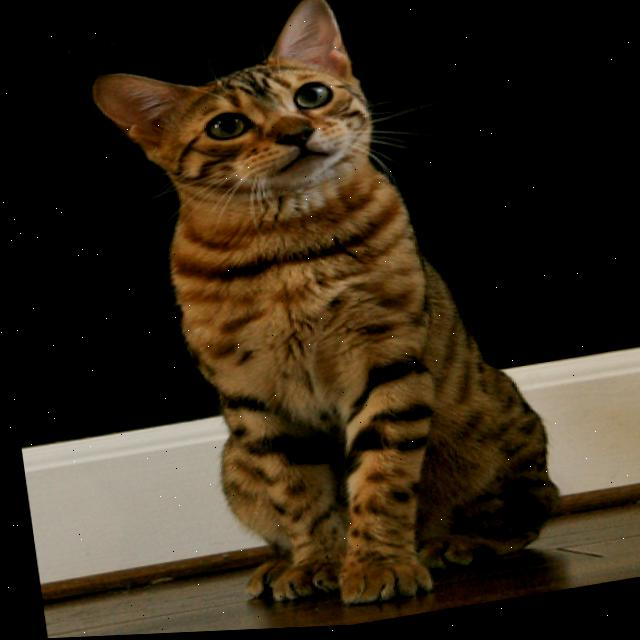Bengal: (69, 0, 580, 638)
